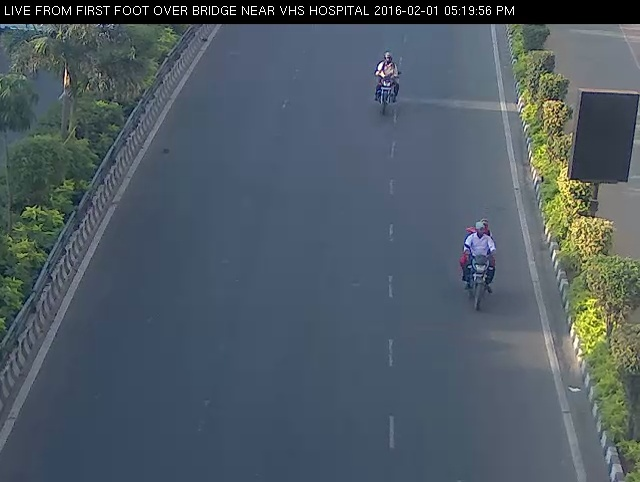Person: (448, 204, 508, 321), (362, 42, 411, 128)
